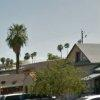Palm tree: (8, 14, 32, 75)
